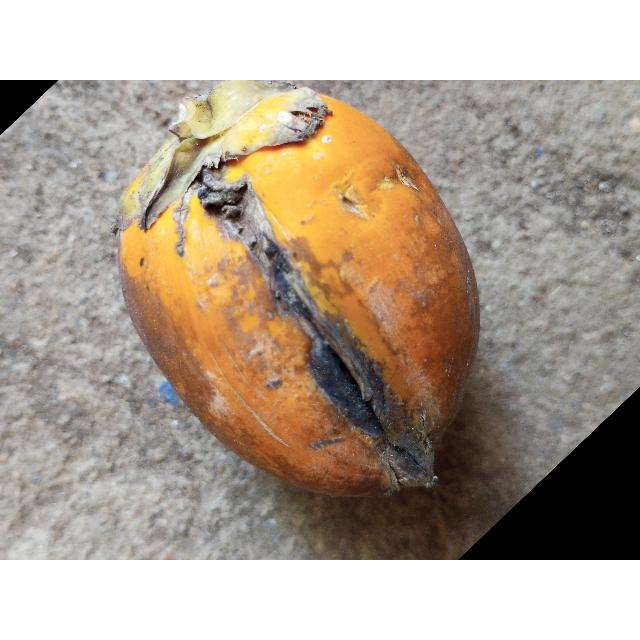damaged: (116, 80, 482, 499)
